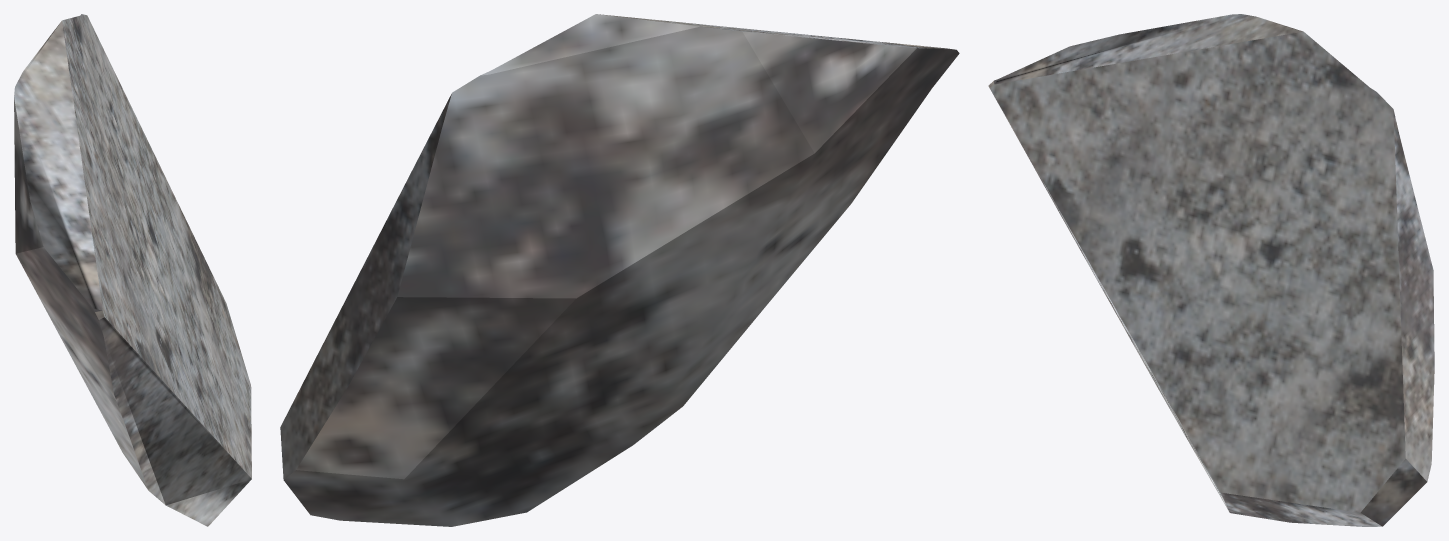
The model's file is Asteroid_Large_001_02_005_03_016.fbx.
3 renders of one model, left to right at view 1: azimuth 30°, elevation 25°; view 2: azimuth 150°, elevation 25°; view 3: azimuth 270°, elevation 25°, orthographic. The views are drawn at different scales.
Visible parts, largest first — view 1: Asteroid_Large_001_02_005_03_016; view 2: Asteroid_Large_001_02_005_03_016; view 3: Asteroid_Large_001_02_005_03_016.
Boxes of the visible parts, <box> form: Asteroid_Large_001_02_005_03_016: <box>14,14,251,526</box>; Asteroid_Large_001_02_005_03_016: <box>280,14,959,526</box>; Asteroid_Large_001_02_005_03_016: <box>988,14,1434,526</box>.
Size of the model in its own units: 5.58 by 7.11 by 6.58.
